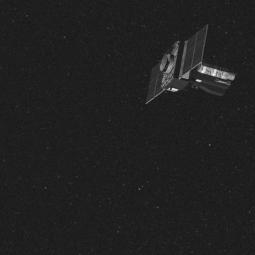soho: (137, 28, 242, 114)
